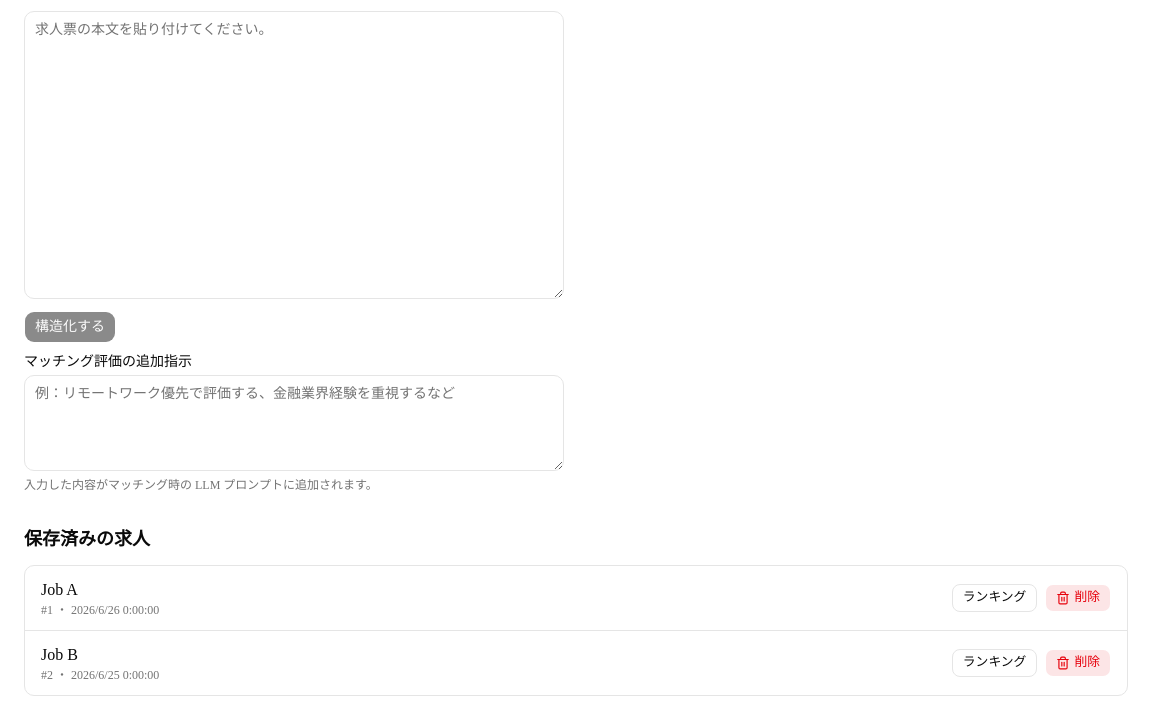
保存済み一覧と削除 › listJobs の結果を描画し、削除後に一覧が更新される
(page scrolled)
Check: the text "Job A" is shown, box [41,581,78,598]
Check: the list item "Job B" is shown, box [41,646,78,663]
Click the button "削除" in the row of "Job B" at (1078, 663), box [1045,649,1111,677]
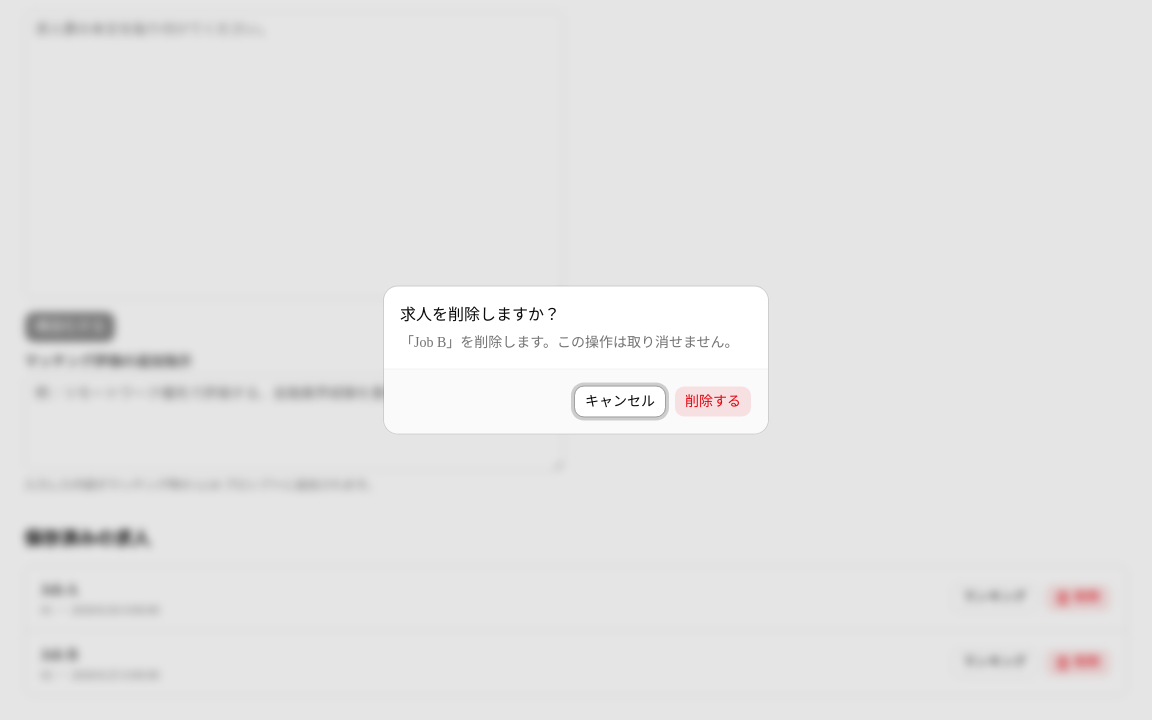
Click the button "削除する" at (713, 402), box [674,386,752,418]
(page scrolled)
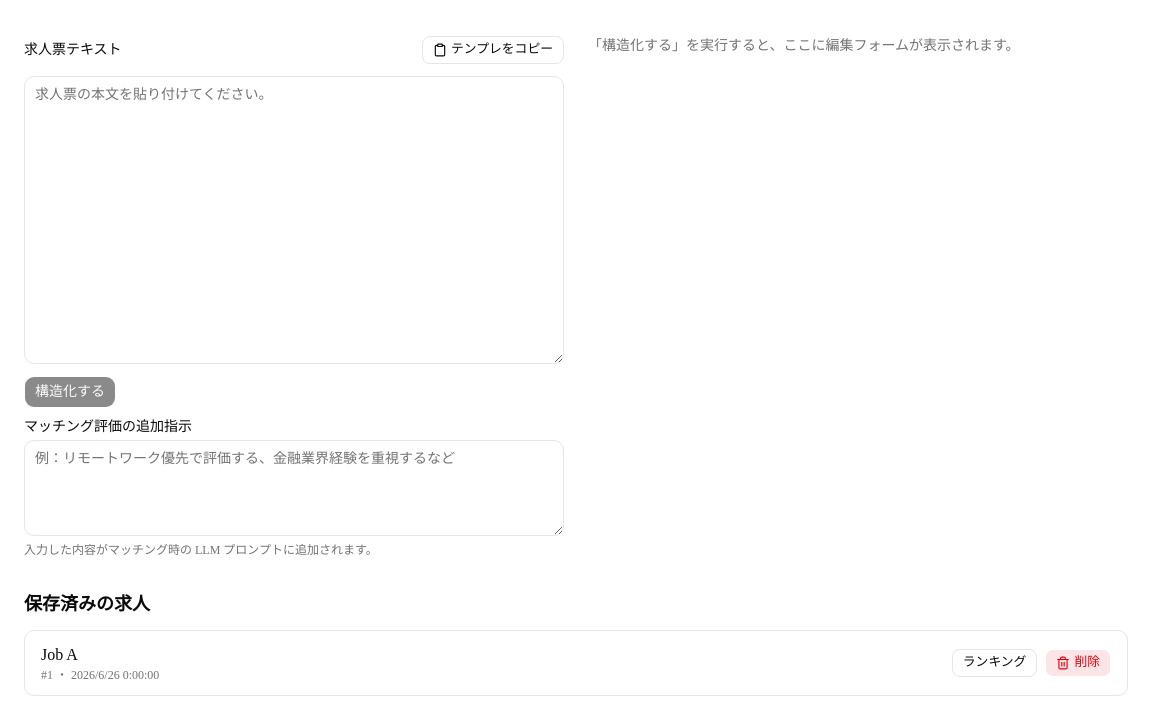
Check: the text "Job A" is shown, box [41,646,78,663]
Check: the text "Job B" is gone
